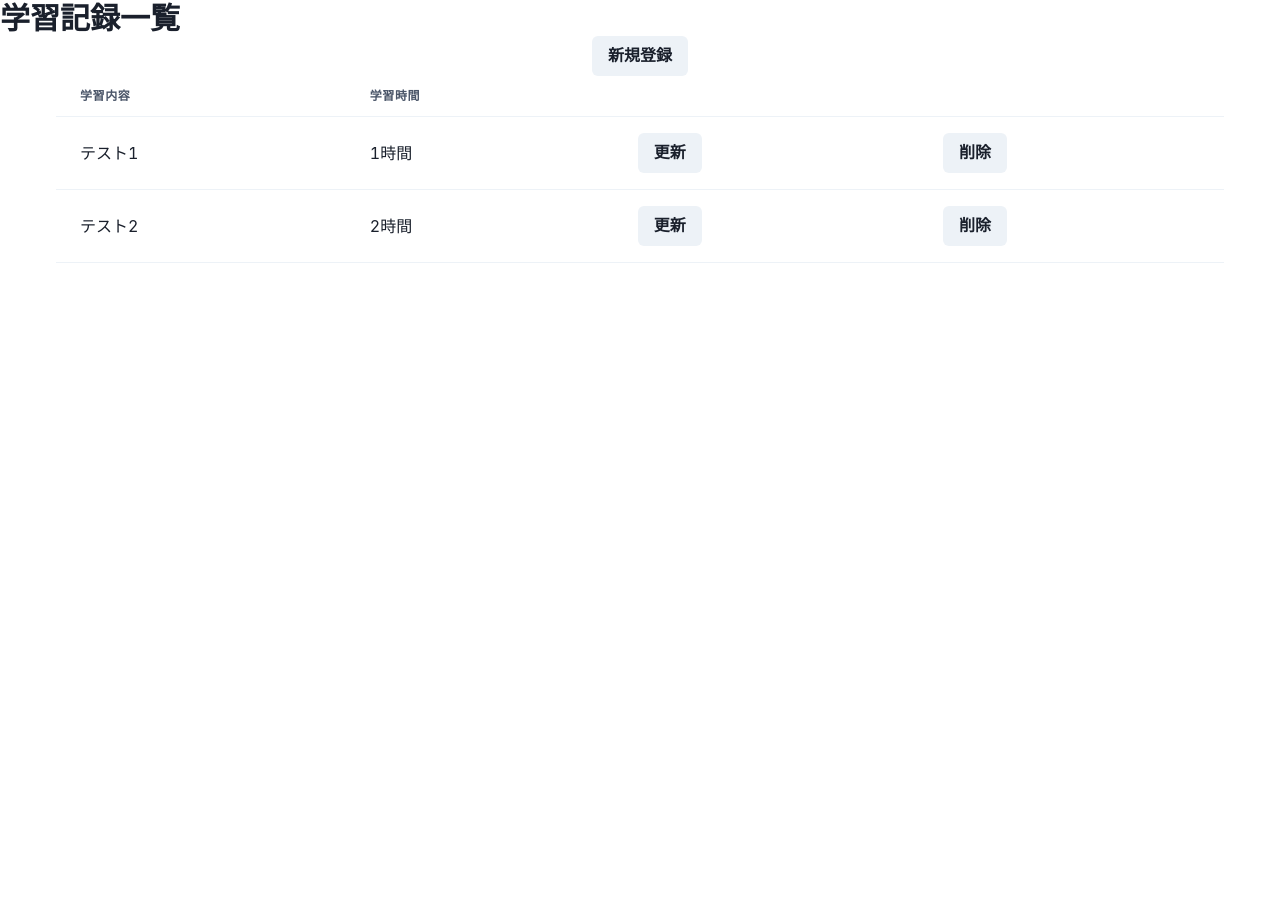
Test: ページ内容のテスト › モーダルが新規登録というタイトルになっている
Step 1. Click the button with test id "study-input-button" → (640, 56), box [592,36,688,76]
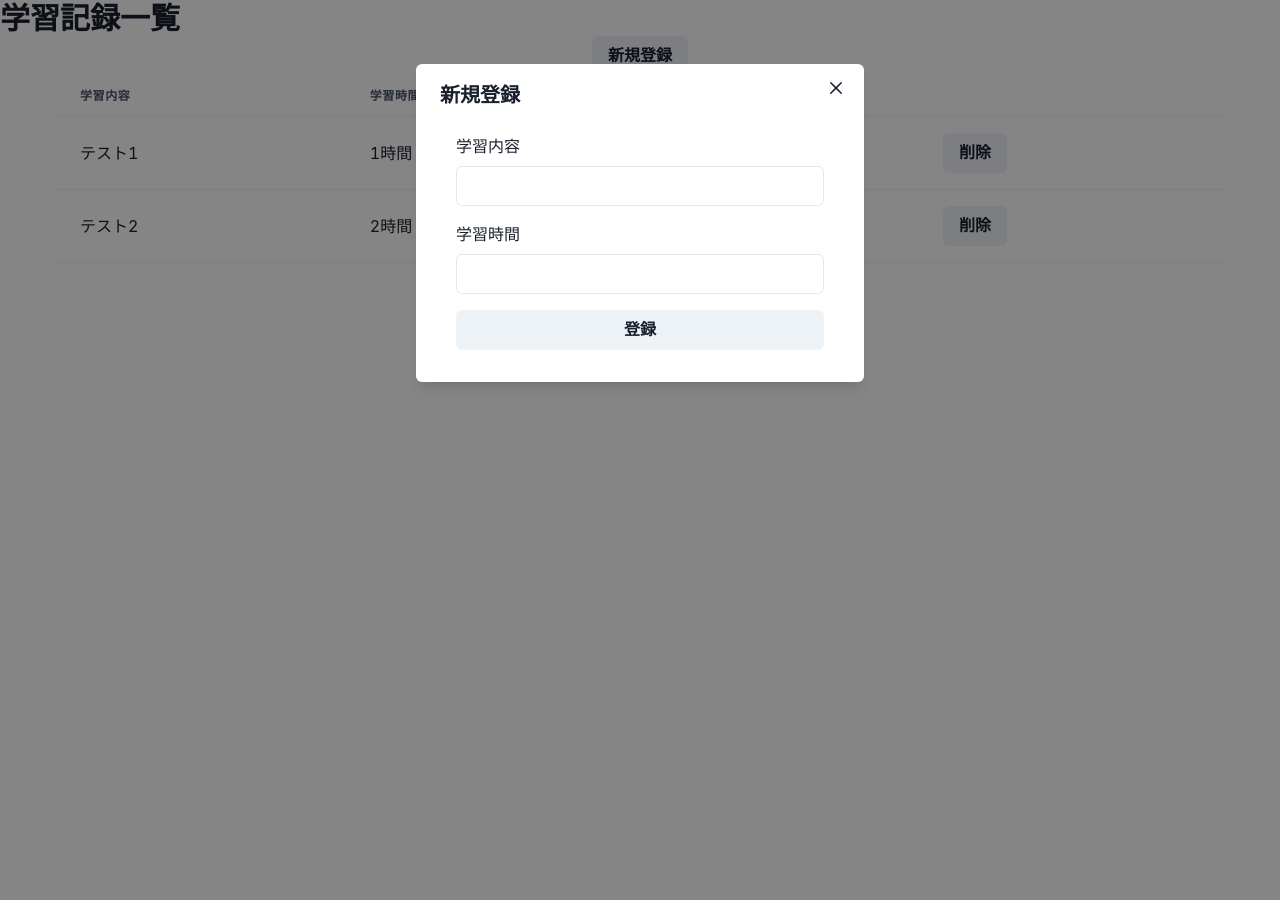
Result: the header with test id "modal-header" is shown at [440,83,520,107]
